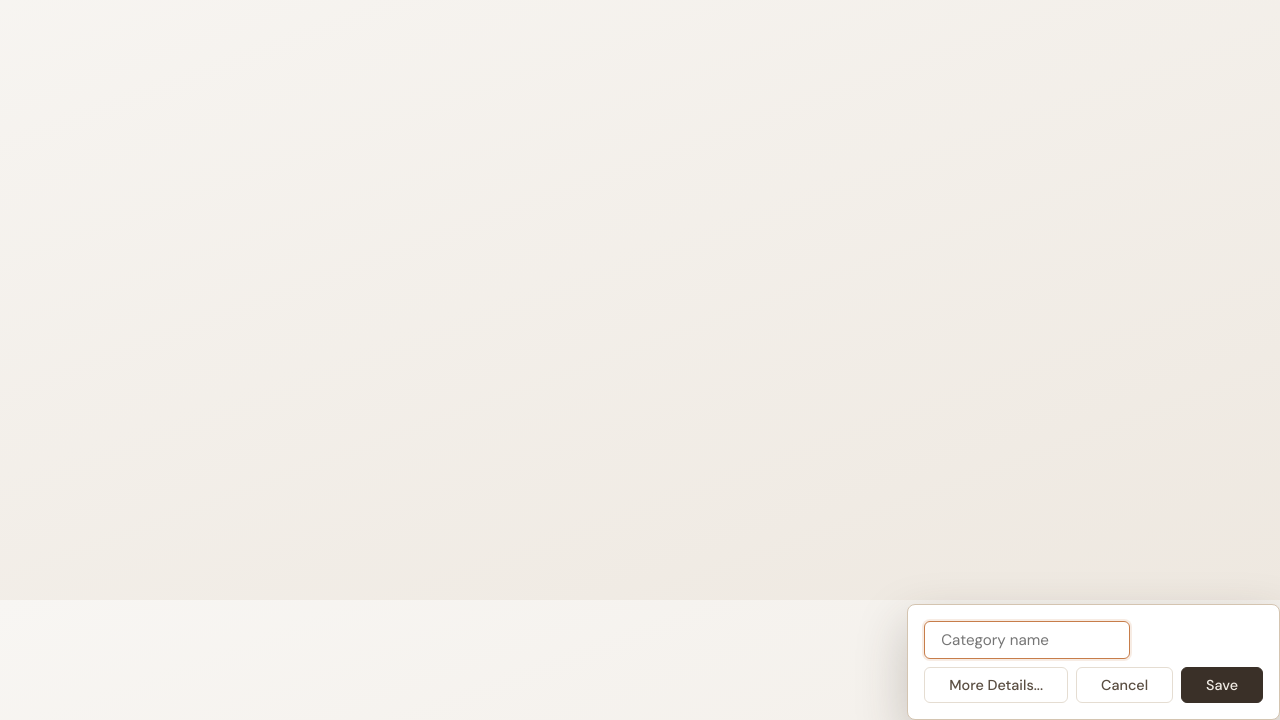
Test: QuickCreatePopover › should show validation error for reserved name
(page scrolled)
Type "Unassigned Items" into the field with placeholder "Category name" at (1027, 640), box top-left (924, 621), bottom-right (1130, 659)
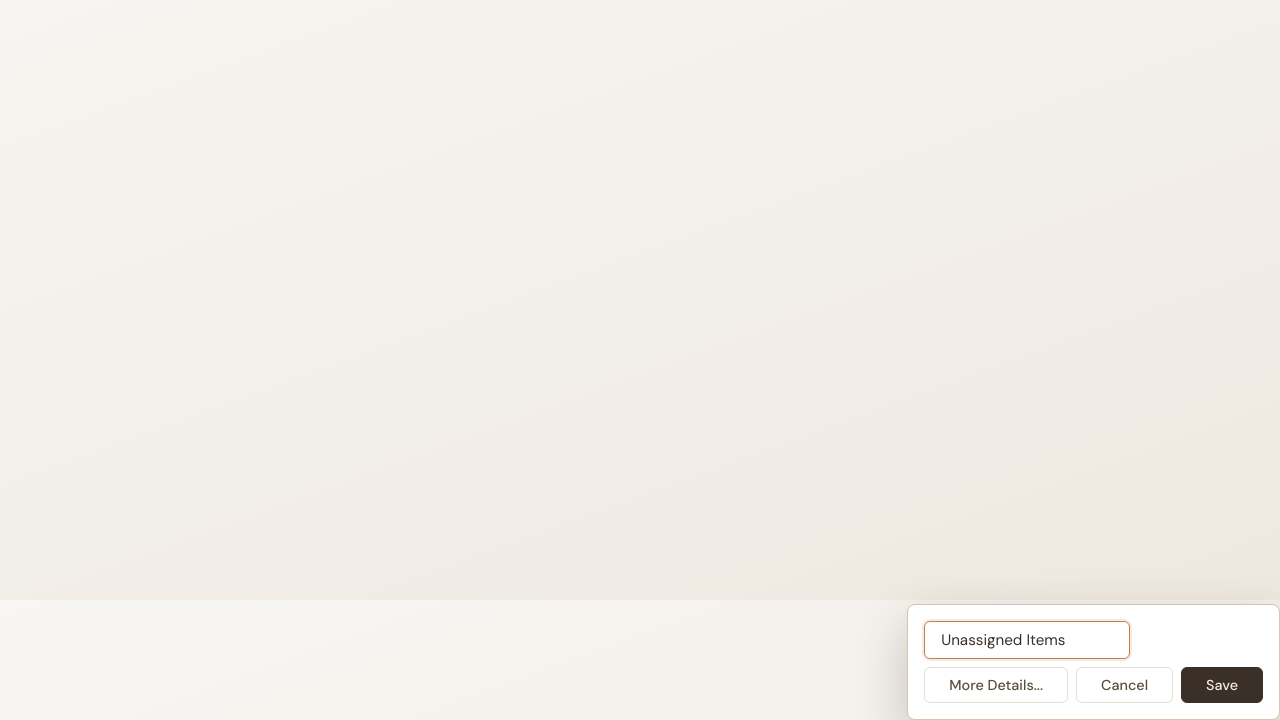
Click the button "Save" at (1222, 685), box top-left (1181, 667), bottom-right (1263, 703)
(page scrolled)
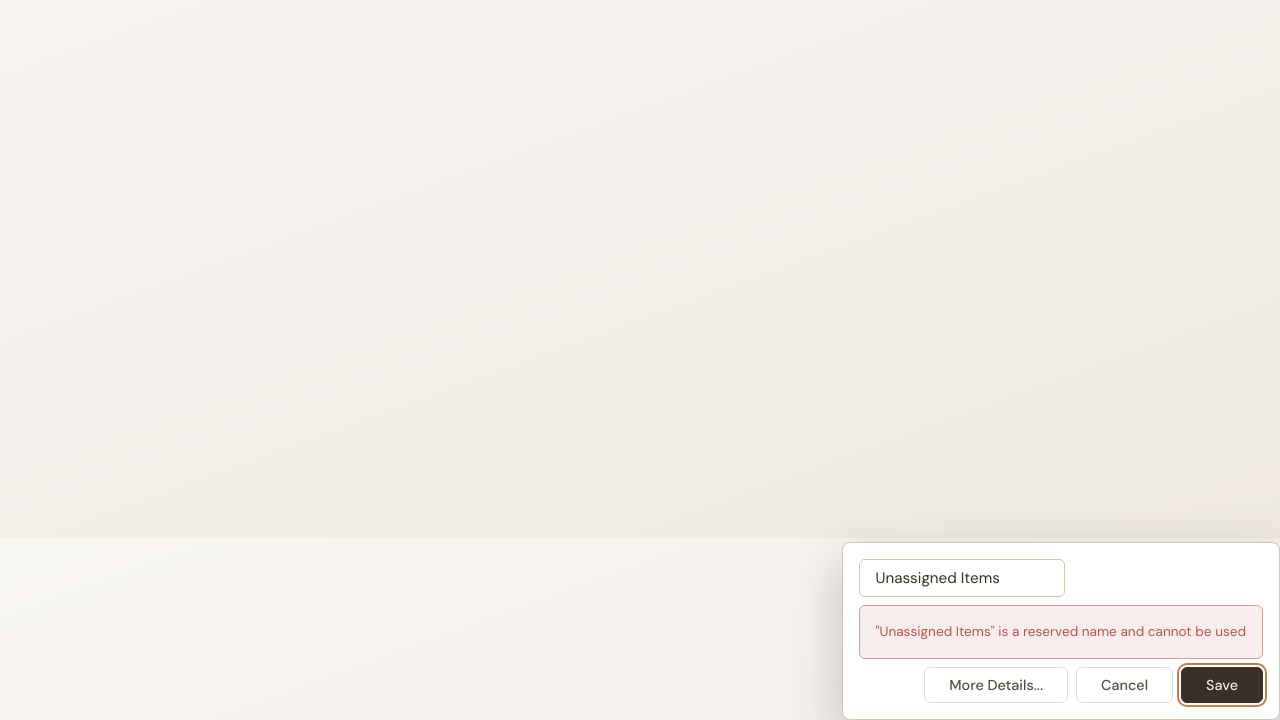
Check: the message shows "reserved name", box top-left (876, 623), bottom-right (1246, 640)
